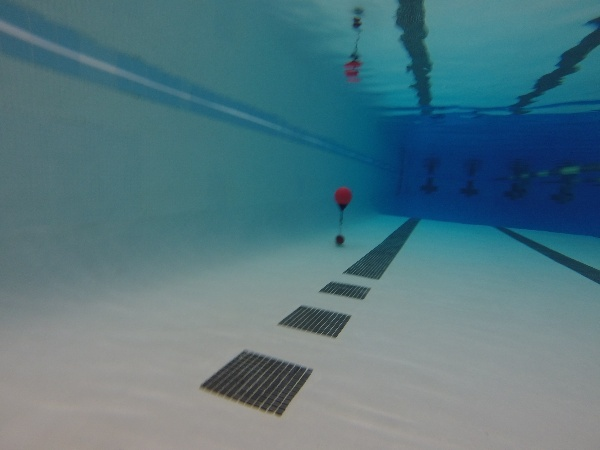buoy_red: (332, 185, 352, 211)
